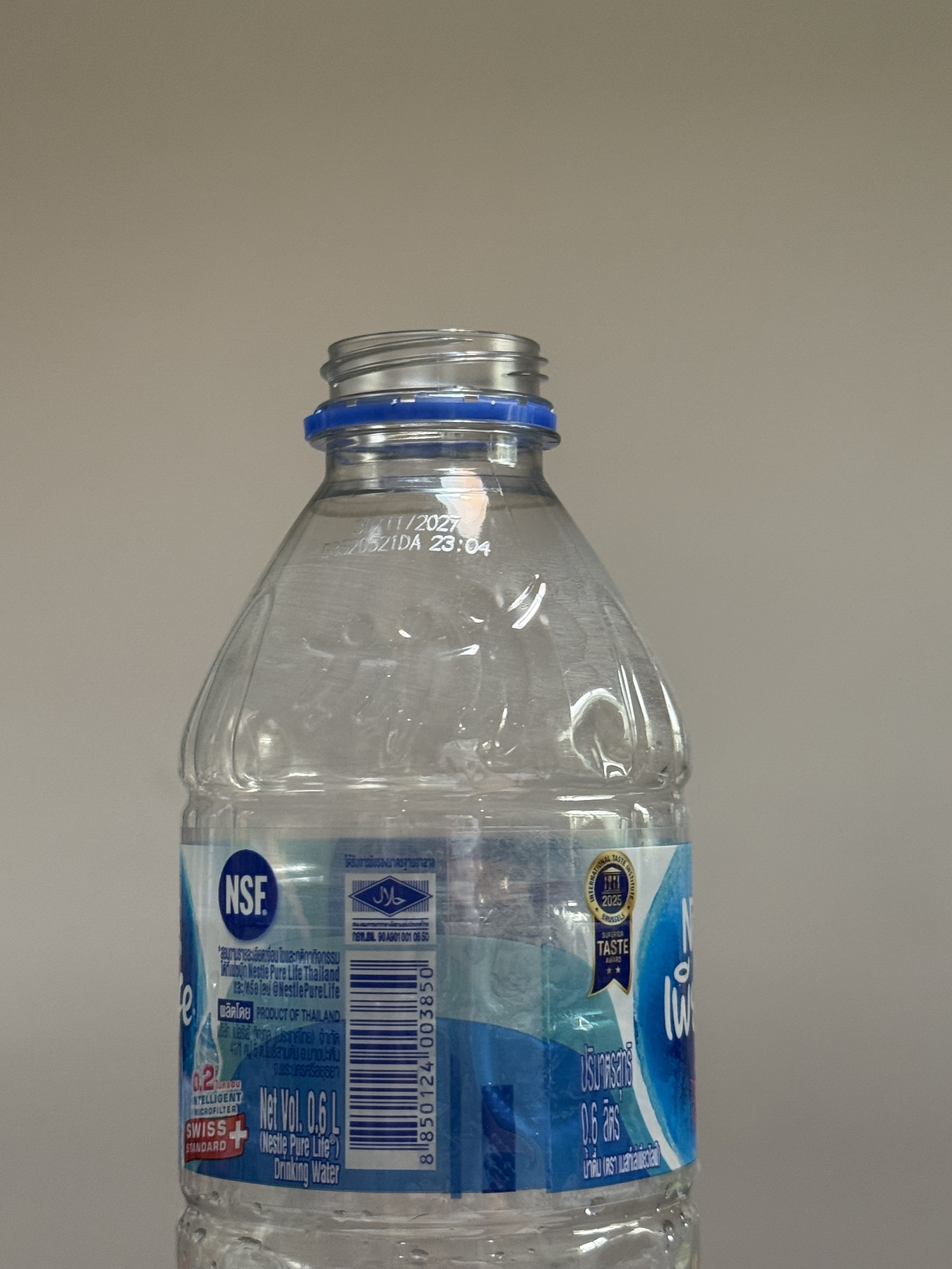no_cap: (297, 322, 565, 461)
